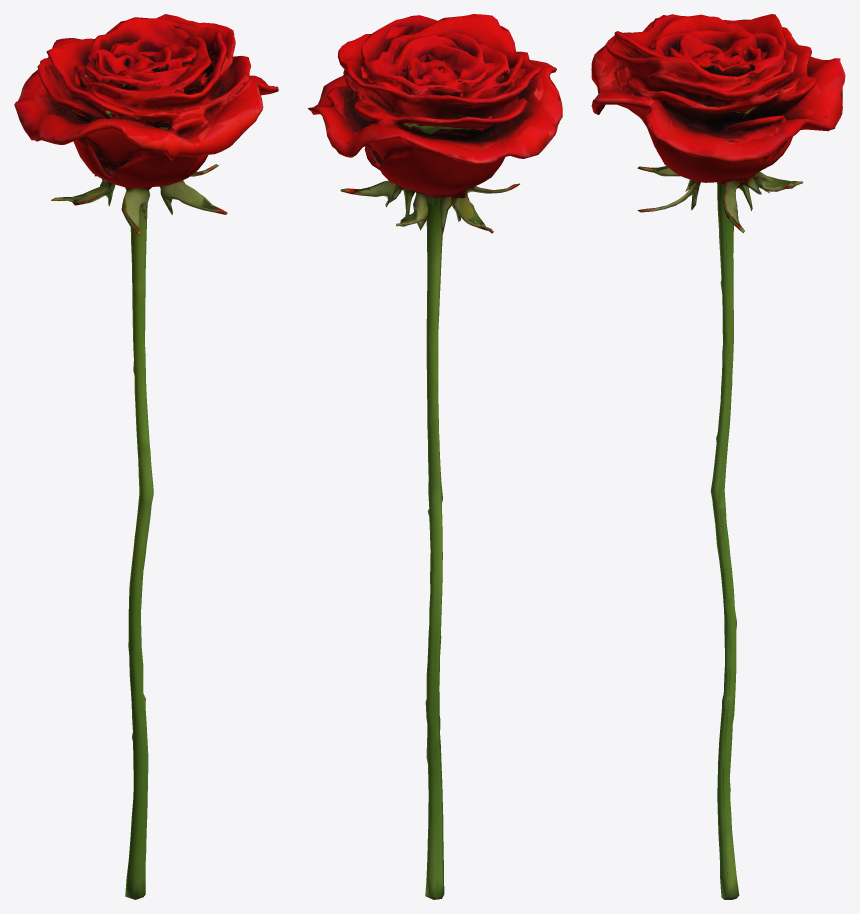
Rendered from rose_test.glb.
The picture shows the model from 3 angles, left to right: view 1: azimuth 30°, elevation 25°; view 2: azimuth 150°, elevation 25°; view 3: azimuth 270°, elevation 25°; orthographic projection. The views are drawn at different scales.
Visible parts, largest first — view 1: Mesh_0; view 2: Mesh_0; view 3: Mesh_0.
Part boxes in pixels (box(x1,y1,x2,y2)): Mesh_0: box(14, 14, 278, 899); Mesh_0: box(308, 14, 562, 899); Mesh_0: box(591, 14, 845, 899).
Size of the model in its own units: 0.1383 by 0.5 by 0.1323.
Materials: 1 (1 with a texture image).
